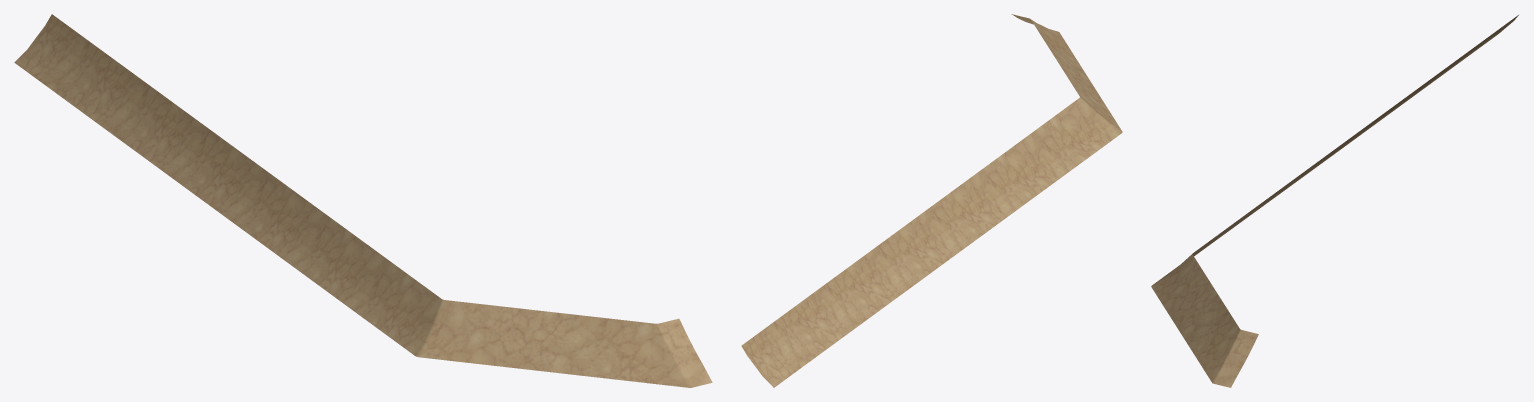
The model's file is SM_ENV_LKNVLD_Ground_Hill_Left_HillSide_02.FBX.
The picture shows the model from 3 angles, left to right: view 1: azimuth 30°, elevation 25°; view 2: azimuth 150°, elevation 25°; view 3: azimuth 330°, elevation 25°; orthographic projection. The views are drawn at different scales.
Parts seen in each view (by area): view 1: SM_ENV_LKNVLD_Ground_Hill_Left_HillSide_02; view 2: SM_ENV_LKNVLD_Ground_Hill_Left_HillSide_02; view 3: SM_ENV_LKNVLD_Ground_Hill_Left_HillSide_02.
Part boxes in pixels (box(x1,y1,x2,y2)): SM_ENV_LKNVLD_Ground_Hill_Left_HillSide_02: box(14, 14, 712, 387); SM_ENV_LKNVLD_Ground_Hill_Left_HillSide_02: box(741, 14, 1122, 387); SM_ENV_LKNVLD_Ground_Hill_Left_HillSide_02: box(1151, 15, 1518, 387).
Size of the model in its own units: 2644 by 512 by 11750.
